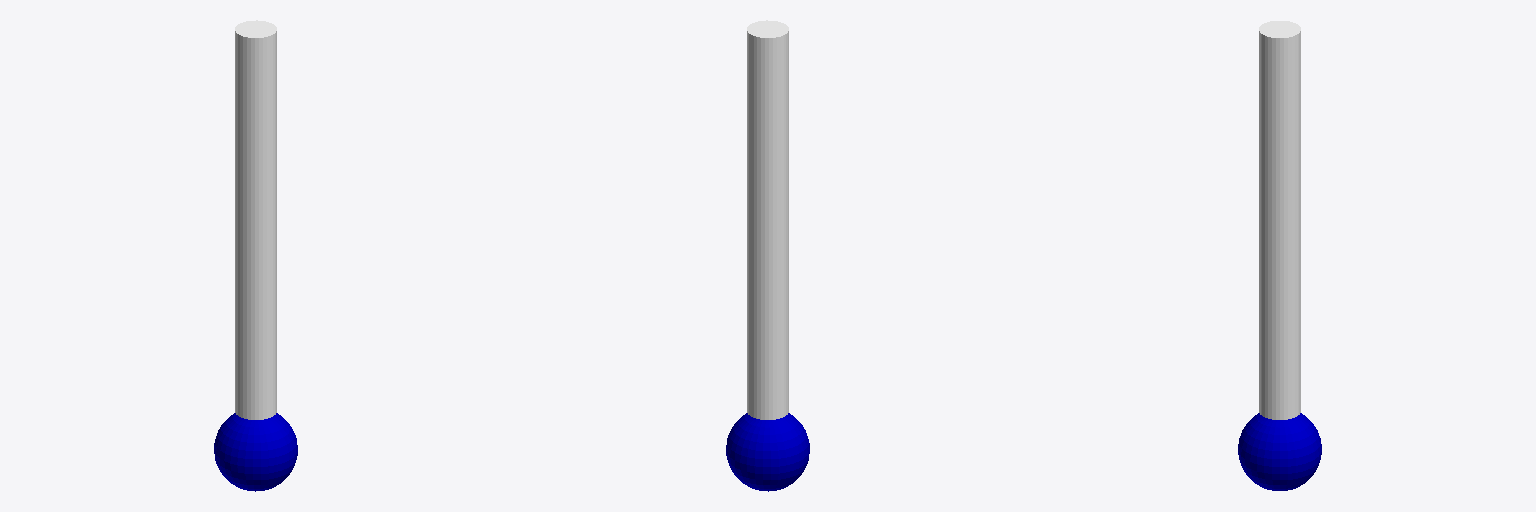
robot.urdf — physics:
<?xml version="1.0"?>
<robot name="physics">

  <link name="root" />

  <link name="odom_x">
    <inertial>
      <origin xyz="0 0 0" />
      <mass value="0.01" />
      <inertia ixx="0.01" ixy="0.0" ixz="0.0" iyy="0.01" iyz="0.0" izz="0.01" />
    </inertial>
  </link>

  <link name="cart">
    <visual>
      <geometry>
        <sphere radius="0.1" />
      </geometry>
      <origin xyz="0 0 0" />
      <material name="blue">
        <color rgba="0 0 .8 1" />
      </material>
    </visual>
    <collision>
      <geometry>
        <sphere radius="0.1" />
      </geometry>
      <origin xyz="0 0 0" />
    </collision>
    <inertial>
      <mass value="1" />
      <inertia ixx="1.0" ixy="0.0" ixz="0.0" iyy="1.0" iyz="0.0" izz="1.0" />
    </inertial>
  </link>

  <link name="pole">
    <visual>
      <geometry>
        <cylinder radius="0.05" length="1.0" />
      </geometry>
      <origin xyz="0 0 0.6" />
      <material name="white">
        <color rgba="1 1 1 1" />
      </material>
    </visual>
    <inertial>
      <origin xyz="0 0 0.6" />
      <mass value="10" />
      <inertia ixx="1.0" ixy="0.0" ixz="0.0" iyy="1.0" iyz="0.0" izz="1.0" />
    </inertial>
    <collision>
      <geometry>
        <cylinder radius="0.05" length="1.0" />
      </geometry>
      <origin xyz="0 0 0.6" />
    </collision>
  </link>

  <link name="pole_x">
    <inertial>
      <origin xyz="0 0 0" />
      <mass value="0.01" />
      <inertia ixx="0.01" ixy="0.0" ixz="0.0" iyy="0.01" iyz="0.0" izz="0.01" />
    </inertial>
  </link>

  <joint name="odom_x_joint" type="prismatic">
    <axis xyz="1 0 0" />
    <origin xyz="0.0 0.0 0.0" />
    <parent link="root" />
    <child link="odom_x" />
    <limit effort="100" lower="-1" upper="1" velocity="1" />
  </joint>

  <joint name="odom_y_joint" type="prismatic">
    <axis xyz="0 1 0" />
    <origin xyz="0.0 0.0 0.0" />
    <parent link="odom_x" />
    <child link="cart" />
    <limit effort="100" lower="-1" upper="1" velocity="1" />
  </joint>

  <joint name="cart_to_pole_x" type="continuous">
    <axis xyz="1 0 0" />
    <origin xyz="0.0 0.0 0.0" />
    <parent link="cart" />
    <child link="pole_x" />
  </joint>

  <joint name="pole_x_to_pole" type="continuous">
    <axis xyz="0 1 0" />
    <origin xyz="0.0 0.0 0" />
    <parent link="pole_x" />
    <child link="pole" />
  </joint>

</robot>

--- What the picture shows (computed from the rendered views, not written in the file) ---
The picture shows the robot from 3 angles, left to right: view 1: azimuth 30°, elevation 25°; view 2: azimuth 150°, elevation 25°; view 3: azimuth 270°, elevation 25°; orthographic projection.
Model physics with 5 links and 4 joints (2 continuous, 2 prismatic), rooted at root, posed every joint at zero.
Visible links, largest first — view 1: pole, cart; view 2: pole, cart; view 3: pole, cart.
Link boxes in pixels (x1=…): pole: x1=235, y1=20, x2=276, y2=419; cart: x1=214, y1=413, x2=297, y2=491; pole: x1=747, y1=20, x2=788, y2=419; cart: x1=726, y1=413, x2=809, y2=491; pole: x1=1259, y1=21, x2=1300, y2=419; cart: x1=1238, y1=413, x2=1321, y2=490.
Bounding box of the posed robot: 0.2 × 0.2 × 1.2 m (x, y, z).
Geometry: primitives only (box / cylinder / sphere), no mesh files.